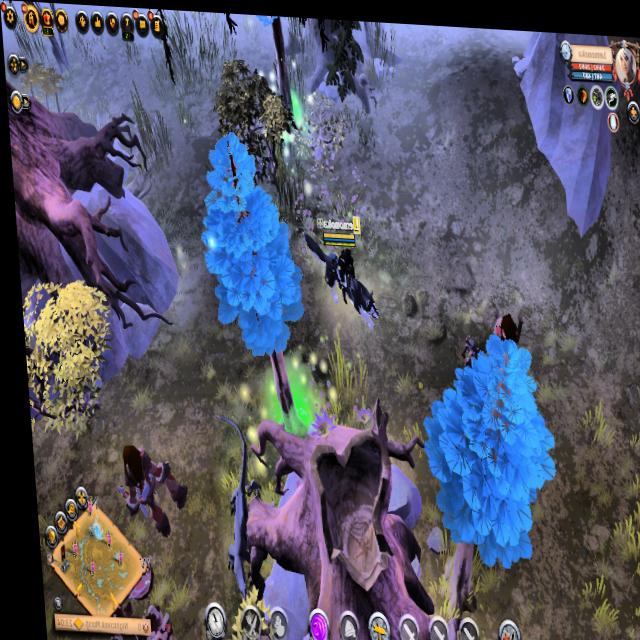wood tier 4: (409, 323, 558, 564), (190, 125, 303, 359)
